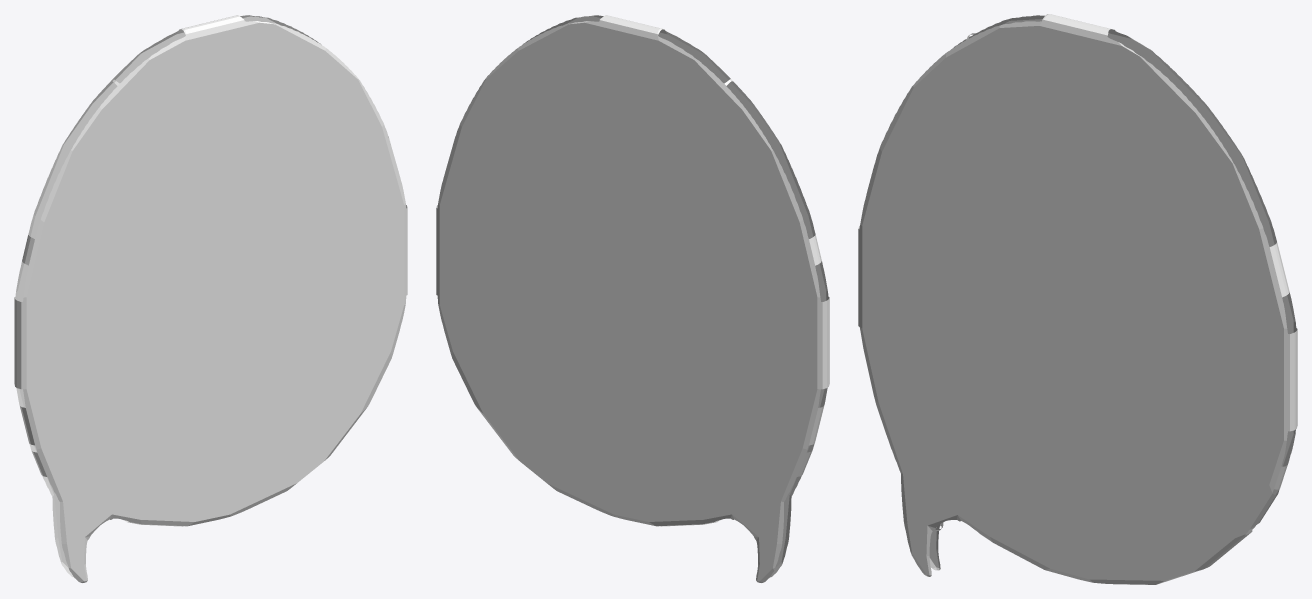
Rendered from speachbubble.fbx.
The picture shows the model from 3 angles, left to right: view 1: azimuth 30°, elevation 25°; view 2: azimuth 150°, elevation 25°; view 3: azimuth 330°, elevation 25°; orthographic projection. The views are drawn at different scales.
Visible parts, largest first — view 1: speech_bubble; view 2: speech_bubble; view 3: speech_bubble.
Part boxes in pixels (bbox=[...]): speech_bubble: bbox=[14, 15, 407, 582]; speech_bubble: bbox=[436, 15, 829, 582]; speech_bubble: bbox=[858, 14, 1297, 584].
Bounding box in the file's own units: 133 × 173 × 5.18.
Materials: 1 (1 with a texture image).
